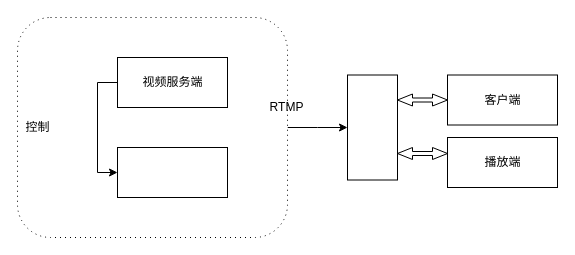
This 575x255 diagram has some shape labels left out. The shapes that lost their labels are listed below. From the top down, each one's box as (x1, y1, x2, y2) in pixels, then its label:
(346, 74, 398, 180): 网络
(116, 146, 228, 198): 采集端
